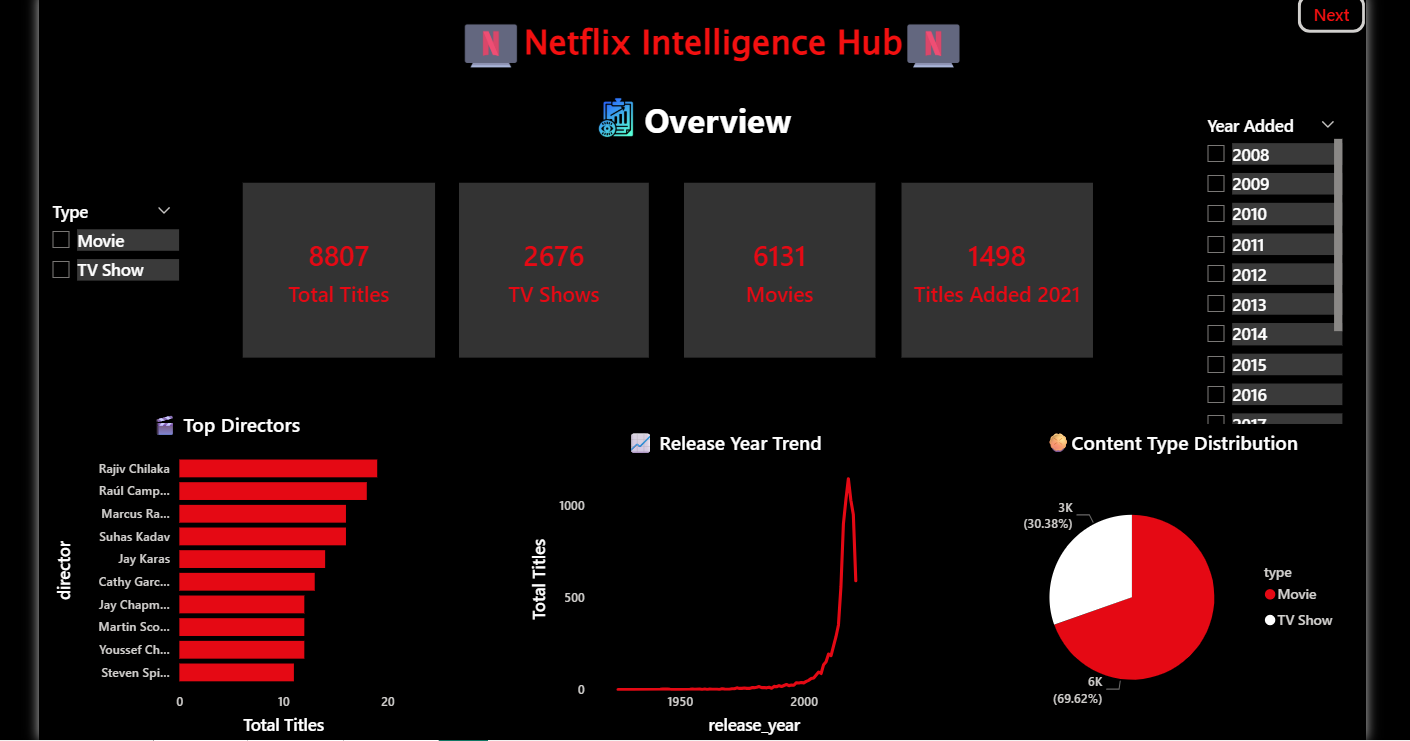

This screenshot's page, from the dashboard's own definition file:
{"tool":"powerbi","page":{"name":"Page 1","canvas":[1280,720],"ordinal":0},"visuals":[{"type":"textbox","box":[365.6,0,570.6,84.5],"z":1000},{"type":"textbox","box":[365.6,95.3,570.6,57.9],"z":2000},{"type":"card","fields":{"Values":["netflix_titles.Total Titles"]},"box":[196.6,182.2,185.8,168.9],"z":3000},{"type":"card","fields":{"Values":["netflix_titles.Movies"]},"box":[622.5,182.2,184.6,168.9],"z":4000},{"type":"card","fields":{"Values":["netflix_titles.TV Shows"]},"box":[405.4,182.2,183.4,168.9],"z":5000},{"type":"card","fields":{"Values":["netflix_titles.Titles Added 2021"]},"box":[832.4,182.2,184.6,168.9],"z":6000},{"type":"pieChart","title":"🥧Content Type Distribution","fields":{"Y":["netflix_titles.Total Titles"],"Category":["netflix_titles.type"]},"box":[922.9,419.8,340.2,300.4],"z":7000},{"type":"lineChart","title":"📈 Release Year Trend","fields":{"Category":["netflix_titles.release_year"],"Y":["netflix_titles.Total Titles"]},"box":[470.5,419.8,382.4,300.4],"z":8000},{"type":"slicer","fields":{"Values":["netflix_titles.type"]},"box":[0,194.2,139.9,97.7],"z":9000},{"type":"slicer","fields":{"Values":["netflix_titles.Year Added"]},"box":[1114.8,111,148.4,308.8],"z":10000},{"type":"clusteredBarChart","title":"🎬 Top Directors","fields":{"Category":["netflix_titles.director"],"Y":["netflix_titles.Total Titles"]},"box":[12.1,403,336.6,317.3],"z":11000},{"type":"actionButton","box":[1214.9,0,65.1,37.4],"z":12000},{"type":"image","box":[524.8,95.3,63.9,48.3],"z":12001},{"type":"image","box":[405.4,19.3,61.5,61.5],"z":12002},{"type":"image","box":[832.4,19.3,61.5,61.5],"z":12003}]}

Visuals, with their boxes on the page's 1280x720 design canvas (x1, y1, x2, y2). These are canvas units, not pixel positions in the 1410x741 screenshot, which may show the page scaled, cropped or inside an application window:
textbox: <box>366,0,936,84</box>
textbox: <box>366,95,936,153</box>
card - netflix_titles.Total Titles: <box>197,182,382,351</box>
card - netflix_titles.Movies: <box>622,182,807,351</box>
card - netflix_titles.TV Shows: <box>405,182,589,351</box>
card - netflix_titles.Titles Added 2021: <box>832,182,1017,351</box>
"🥧Content Type Distribution" pieChart: <box>923,420,1263,720</box>
"📈 Release Year Trend" lineChart: <box>470,420,853,720</box>
slicer - netflix_titles.type: <box>0,194,140,292</box>
slicer - netflix_titles.Year Added: <box>1115,111,1263,420</box>
"🎬 Top Directors" clusteredBarChart: <box>12,403,349,720</box>
actionButton: <box>1215,0,1280,37</box>
image: <box>525,95,589,144</box>
image: <box>405,19,467,81</box>
image: <box>832,19,894,81</box>
